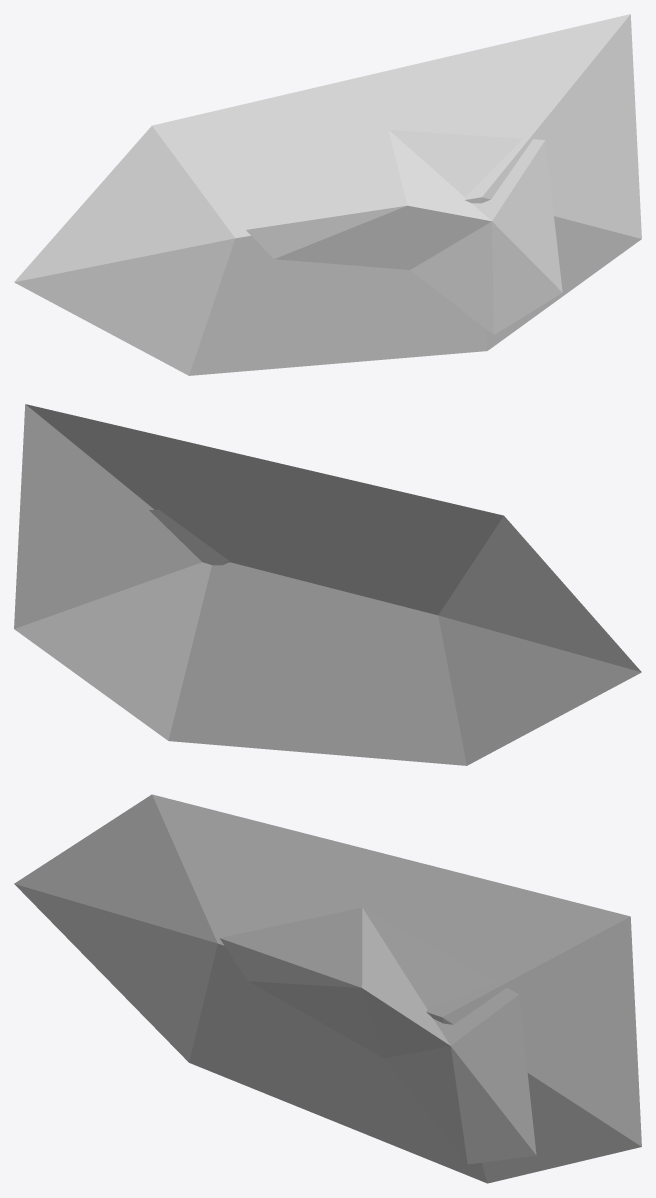
File: SM_Env_Ivy_Flowers_06.glb
The picture shows the model from 3 angles, top to bottom: view 1: azimuth 30°, elevation 25°; view 2: azimuth 150°, elevation 25°; view 3: azimuth 330°, elevation 25°; orthographic projection.
Parts seen in each view (by area): view 1: SM_Env_Ivy_Flowers_06; view 2: SM_Env_Ivy_Flowers_06; view 3: SM_Env_Ivy_Flowers_06.
Boxes of the visible parts, box(x1,y1,x2,y2) form: SM_Env_Ivy_Flowers_06: box(14, 14, 641, 375); SM_Env_Ivy_Flowers_06: box(14, 404, 641, 765); SM_Env_Ivy_Flowers_06: box(14, 794, 641, 1183).
Size of the model in its own units: 1.44 by 0.6756 by 0.0903.
1 material, 1 textured.
